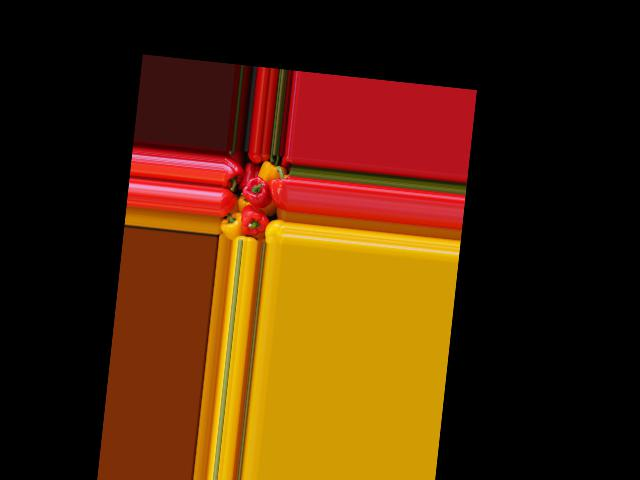bell_pepper: (221, 213, 245, 240)
